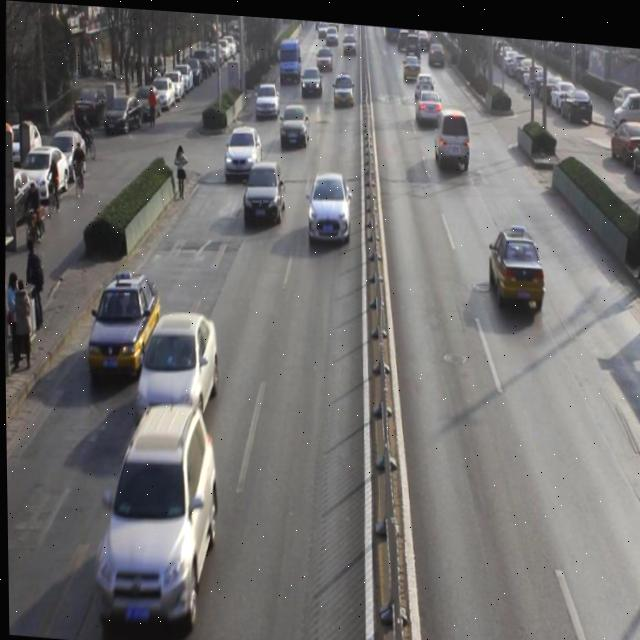car: (100, 405, 219, 628), (136, 309, 219, 425), (86, 267, 162, 378), (485, 217, 545, 310), (306, 168, 353, 242), (244, 155, 284, 224), (223, 119, 261, 177), (277, 99, 310, 149), (414, 77, 441, 119), (252, 75, 279, 116), (331, 68, 354, 103), (300, 62, 323, 95), (412, 63, 432, 95)
truck: (431, 101, 471, 170), (277, 33, 304, 80)
